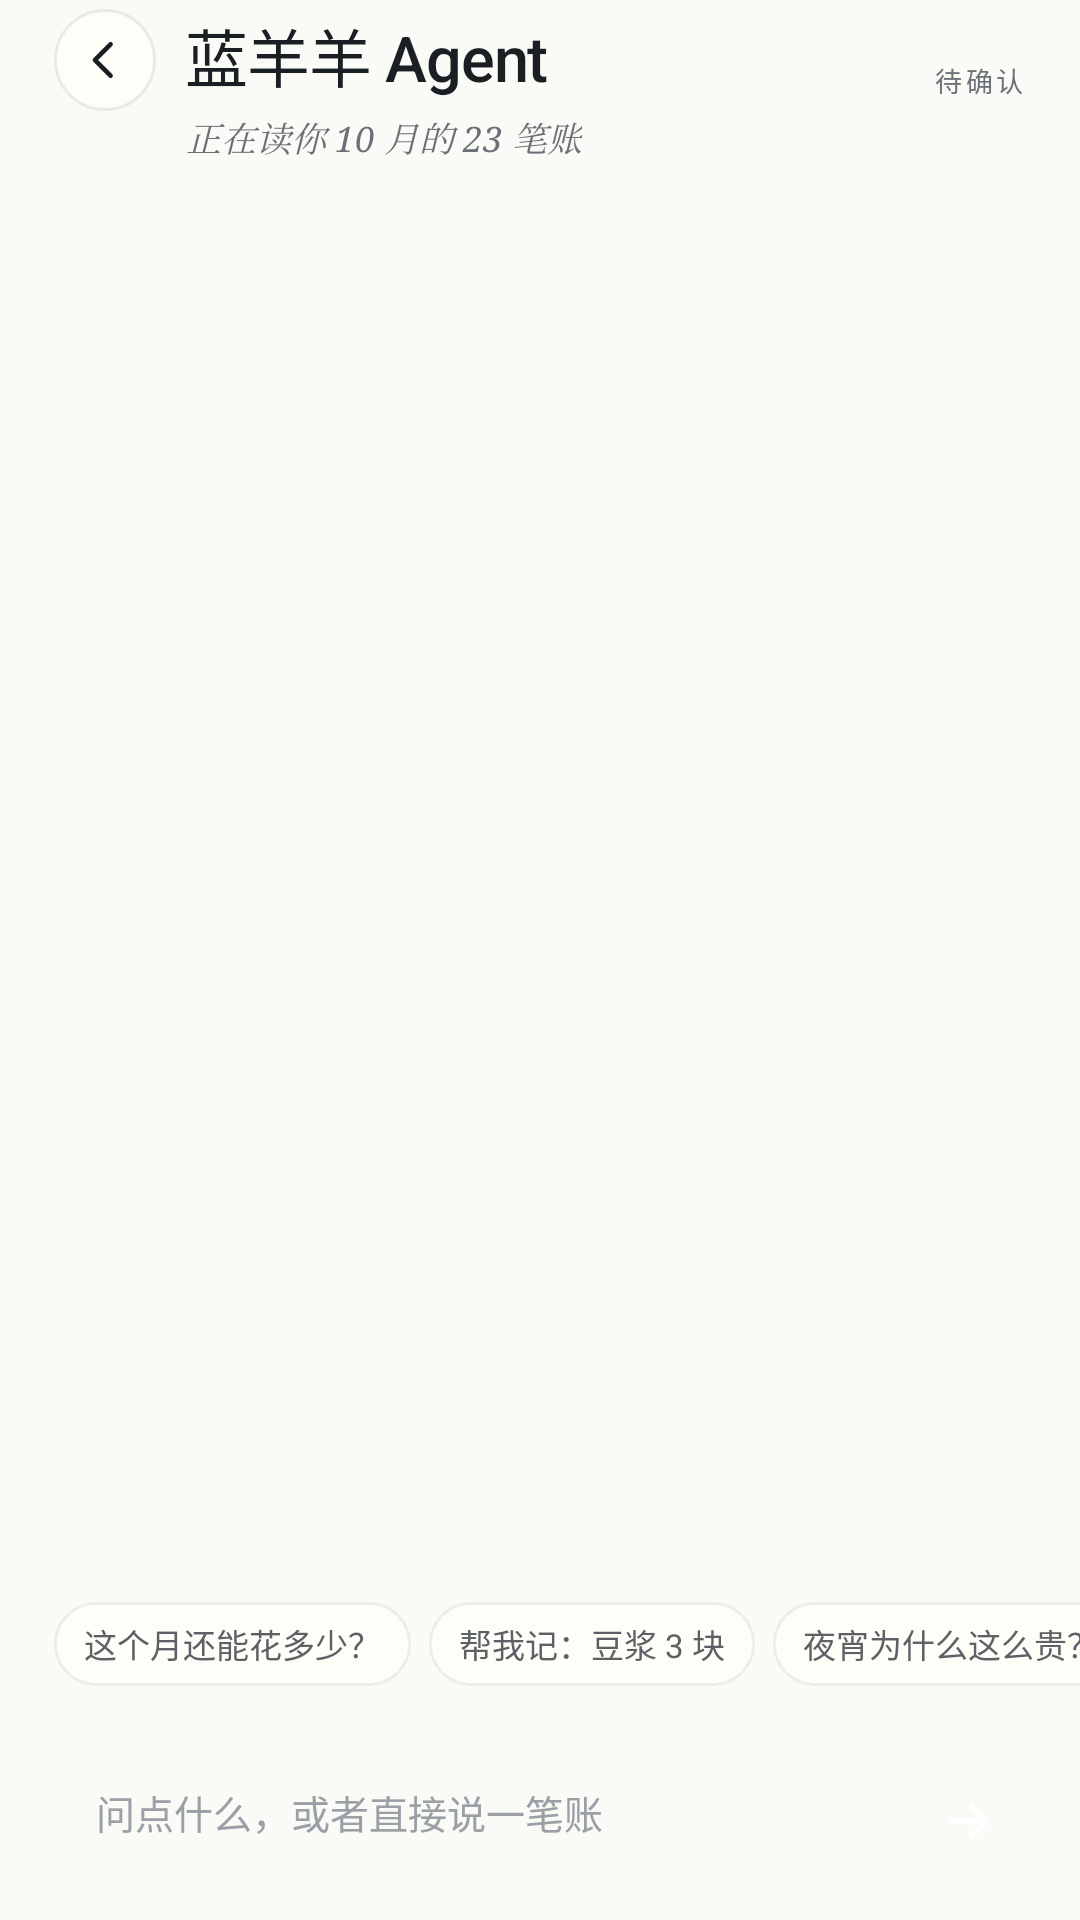

Point at icon controls on the screen. Image size 1080x1920, points as (x=x, y=y).
返回: (x=102, y=60)
